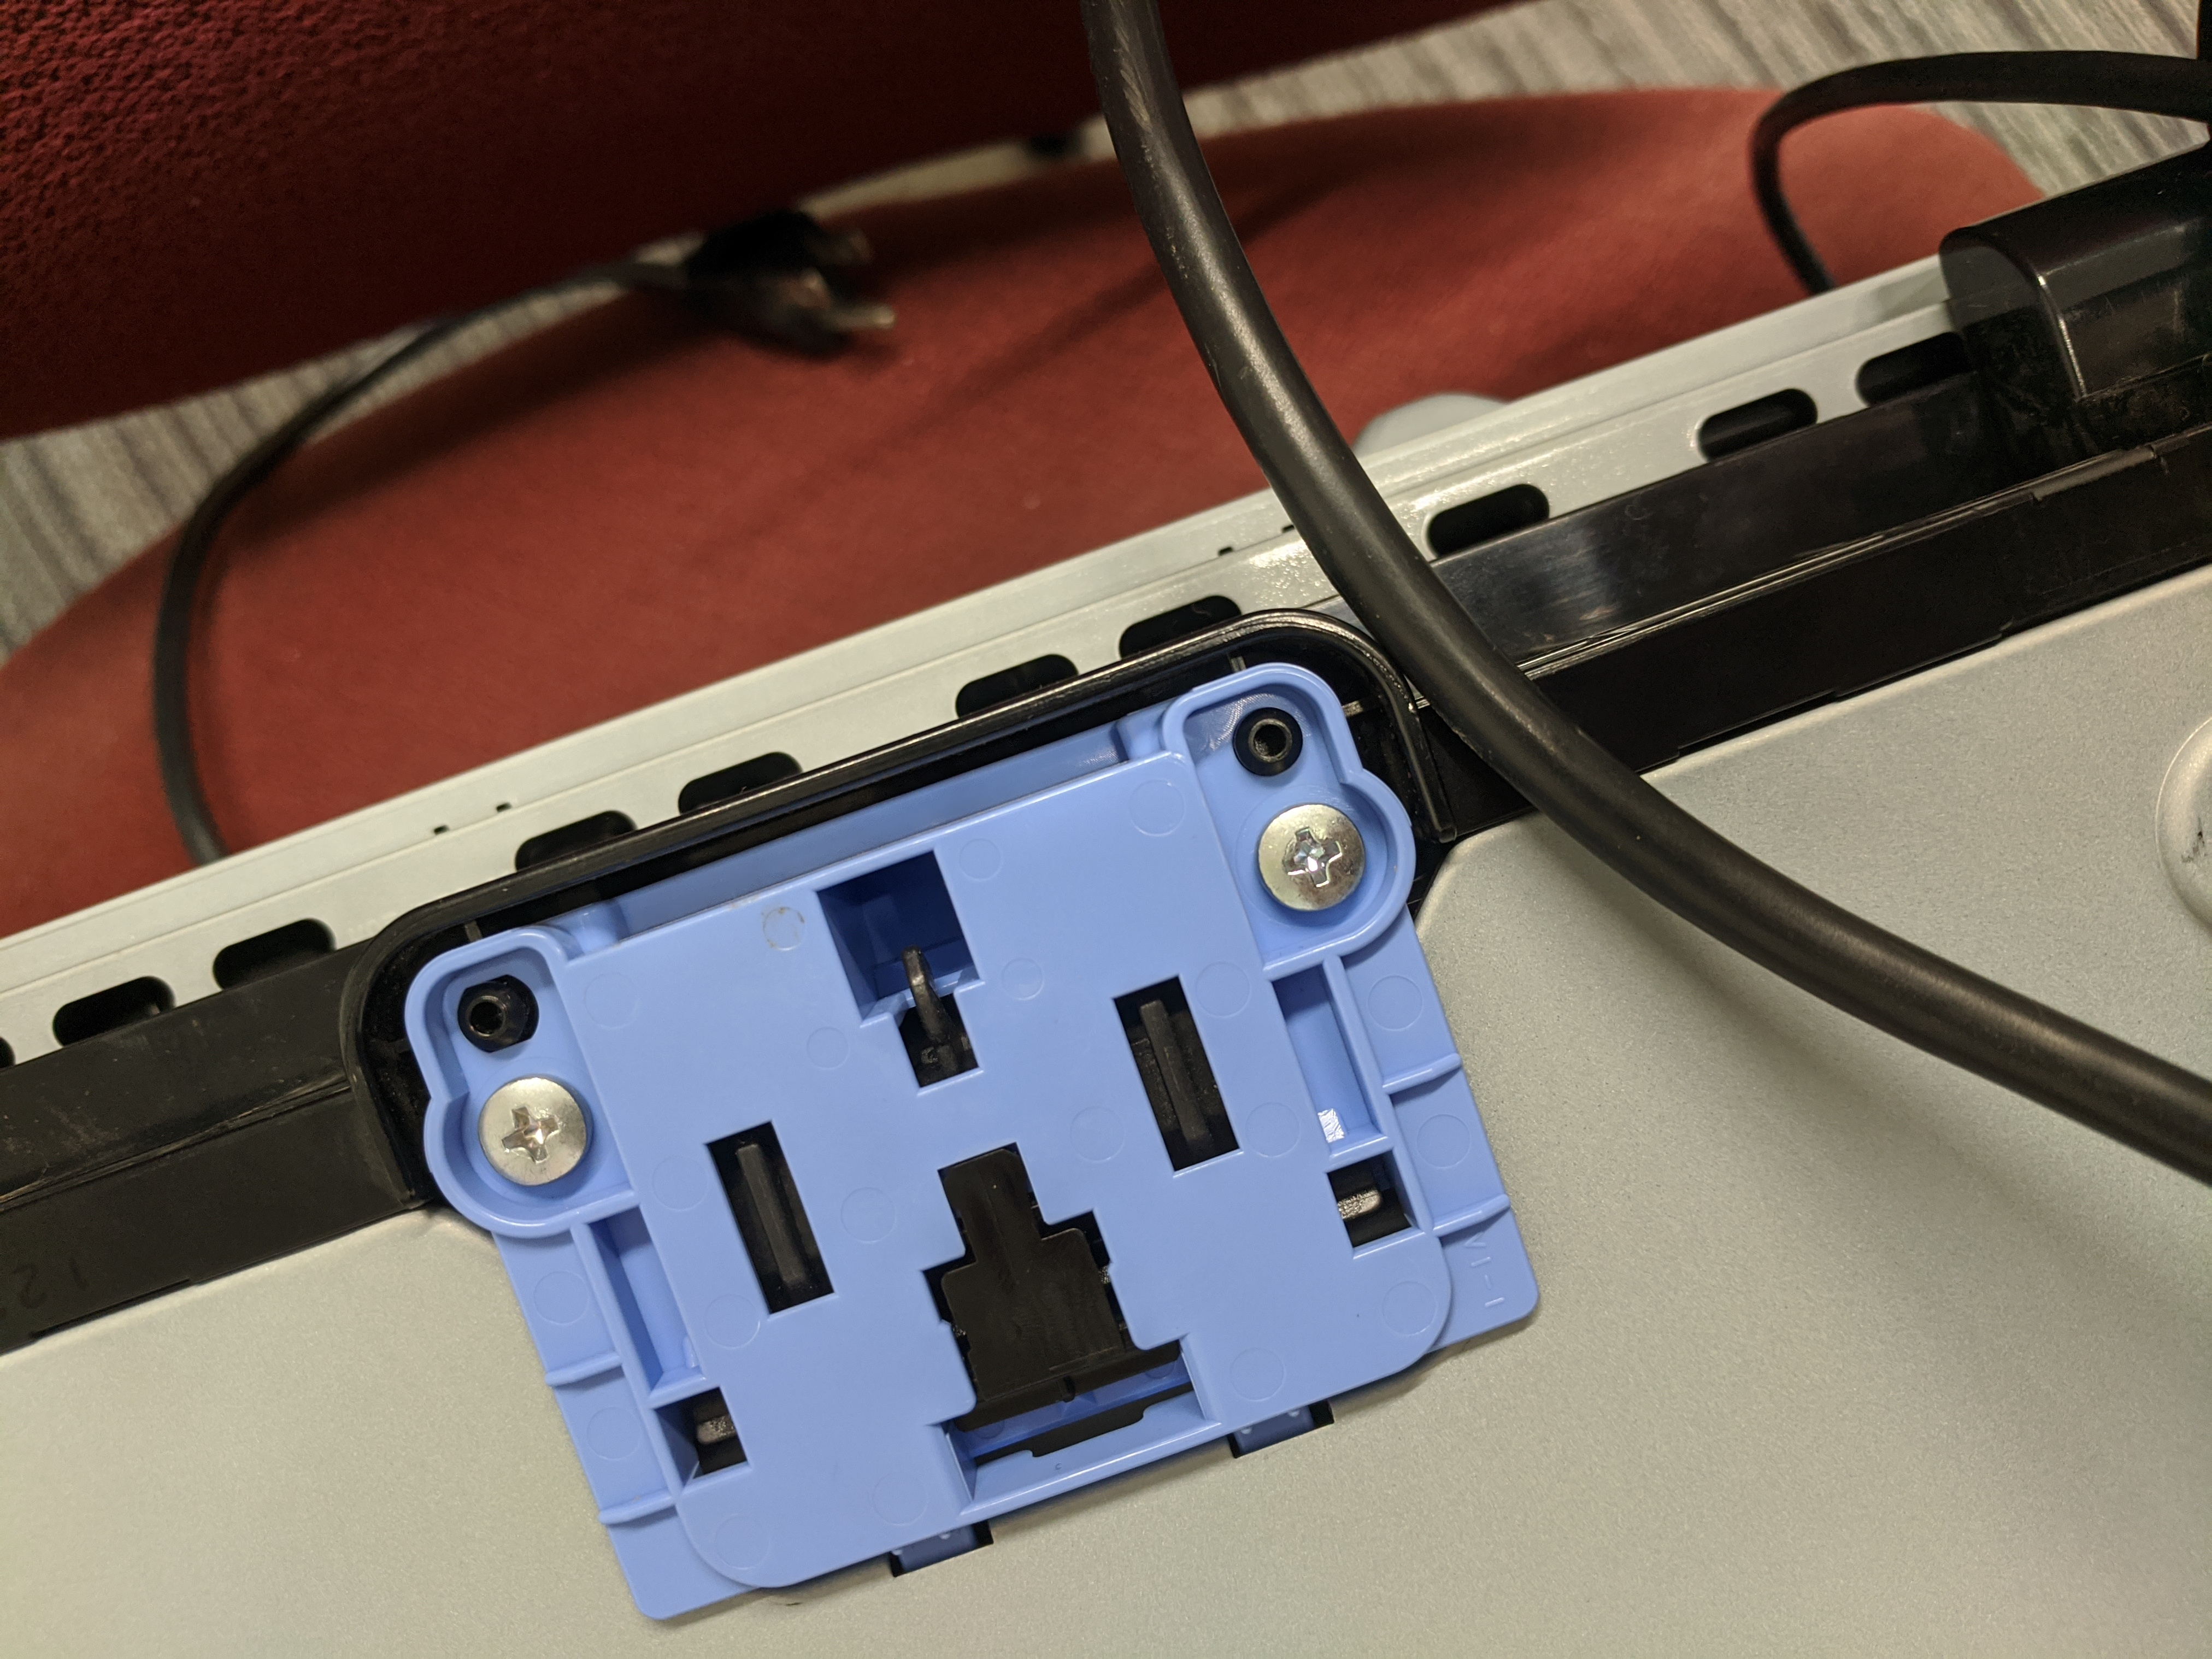cross_recessed_screw: (465, 1068, 597, 1194), (1244, 795, 1378, 911)
